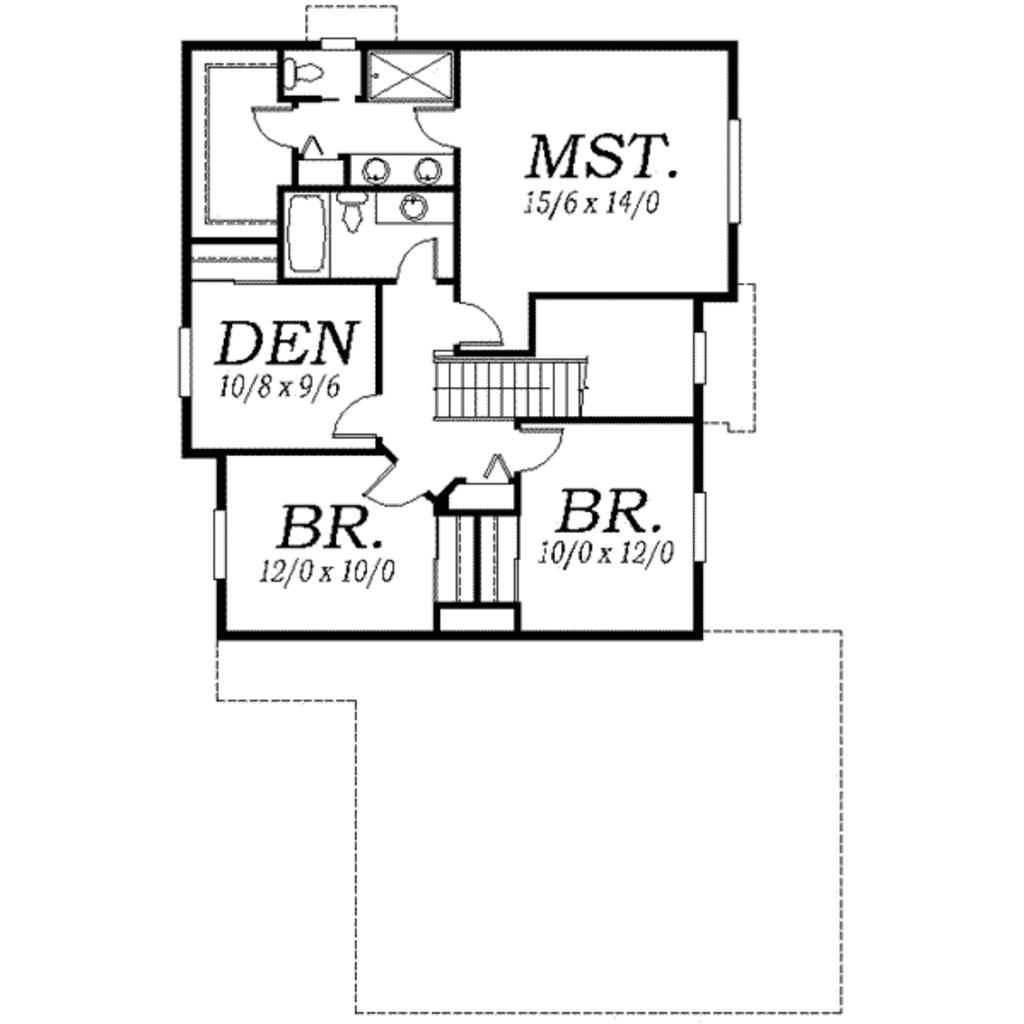door: (448, 289, 503, 353), (359, 457, 421, 512), (245, 101, 302, 154), (325, 394, 383, 444), (518, 422, 568, 476), (393, 238, 444, 289)
large_sink: (276, 47, 324, 98), (333, 191, 375, 242)
small_sink: (342, 151, 459, 191), (376, 188, 456, 230)
stairs: (427, 349, 592, 424)
tub: (278, 188, 335, 285)
window: (726, 110, 746, 231), (685, 488, 712, 567), (208, 508, 232, 584), (177, 326, 201, 402), (689, 326, 712, 391)
